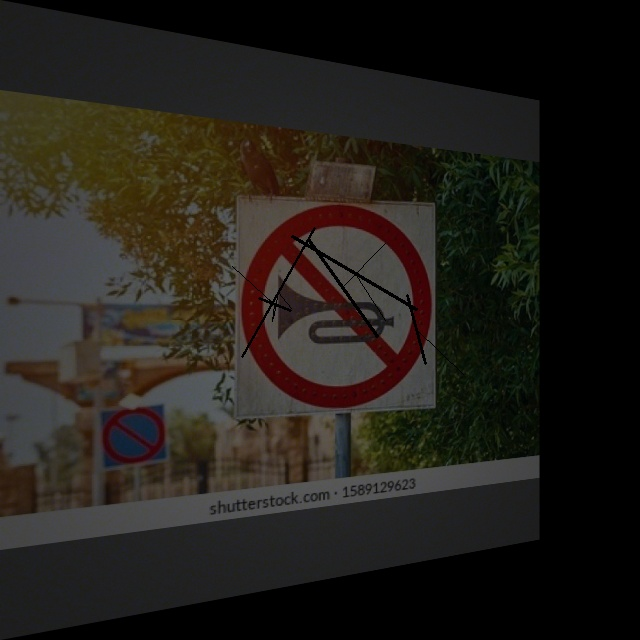Horn_Prohibited: (239, 193, 431, 415)
